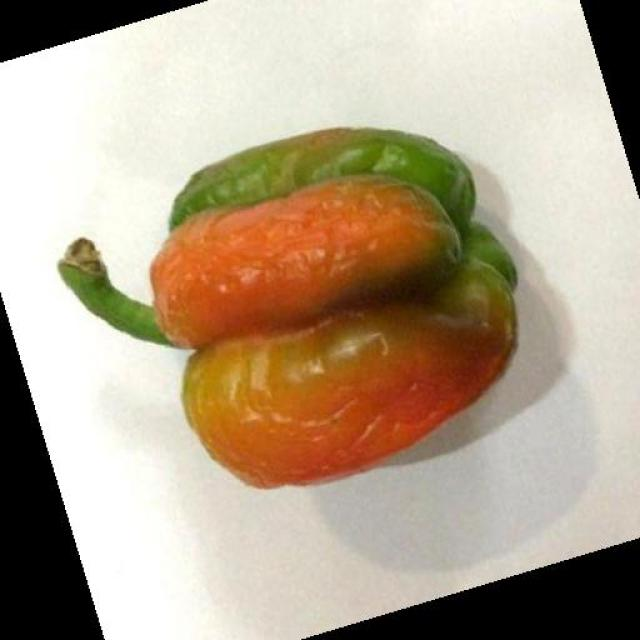Stale_Capsicum: (124, 117, 526, 462)
